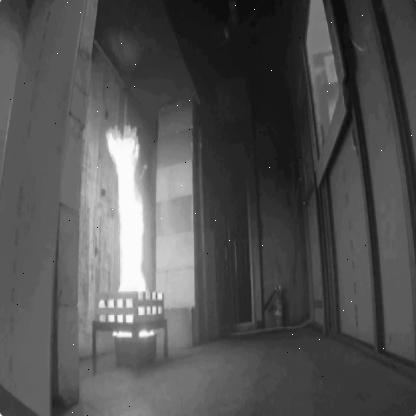fire: (103, 127, 151, 295)
